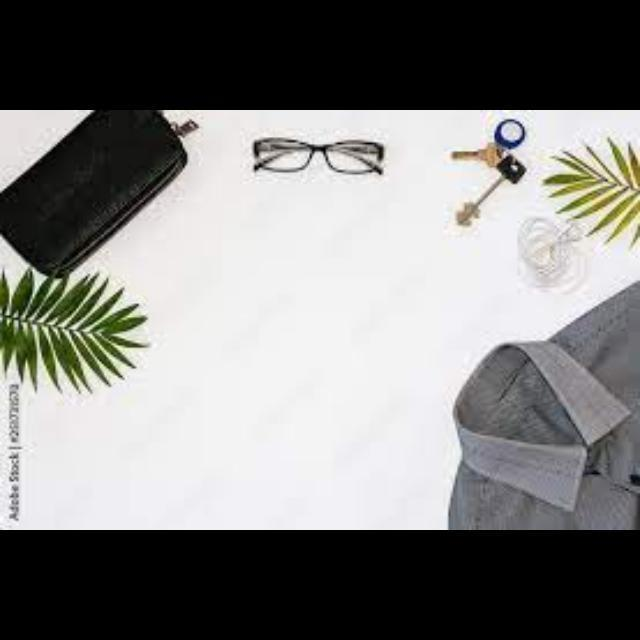Keys: (449, 118, 529, 228)
Wallet: (1, 110, 206, 268)
glasses: (254, 138, 386, 174)
